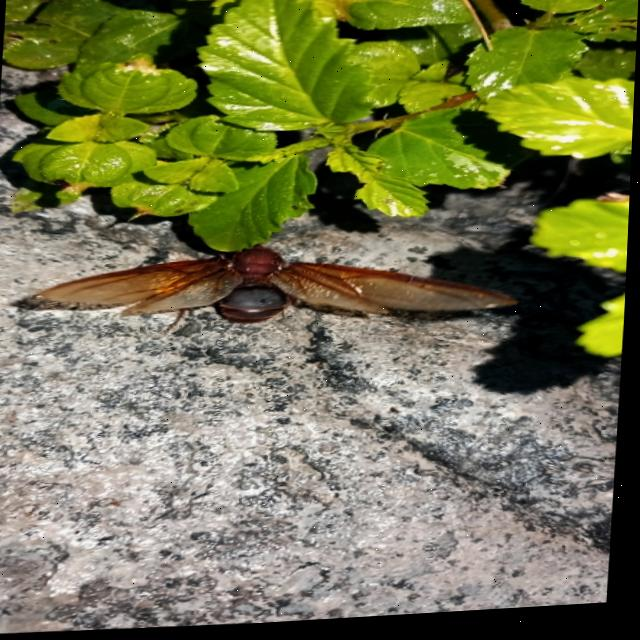Alive-Female-Alate: (35, 231, 527, 349)
